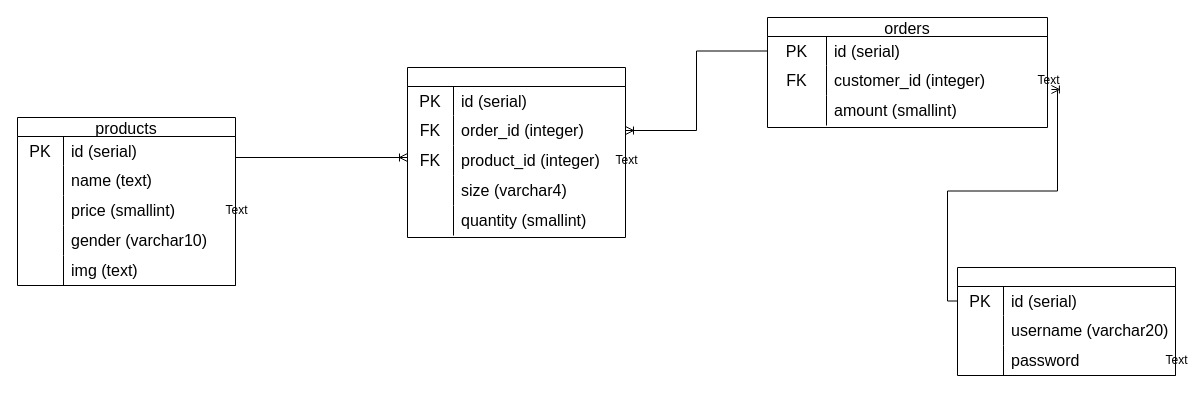
The diagram is 1204 pixels wide and 393 high, and some of its shapes have lost their labels. Each missing label, with the box of its shape:
customers: (956, 266, 1176, 376)
order_items: (406, 66, 626, 238)
